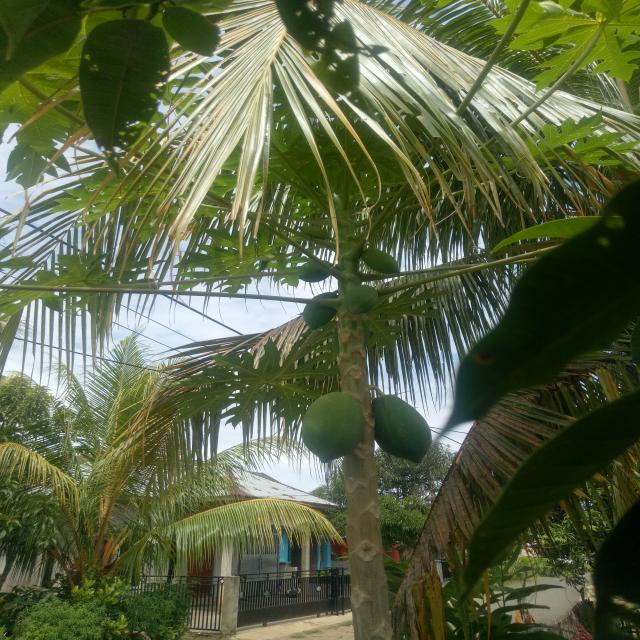Pepaya unrippen: (299, 391, 362, 471), (370, 393, 430, 466)
